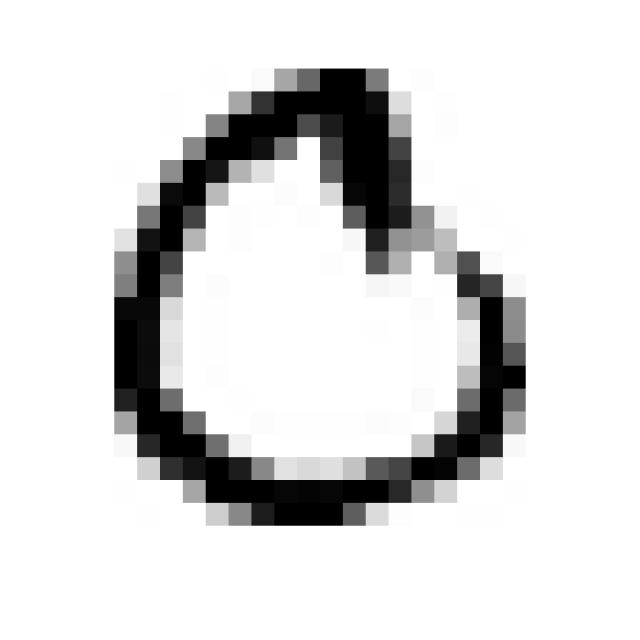5 -five-: (91, 57, 544, 533)
